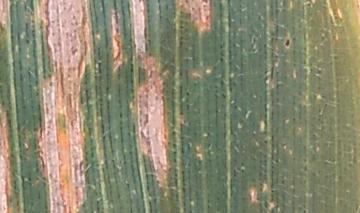tarspot: (282, 34, 292, 49)
